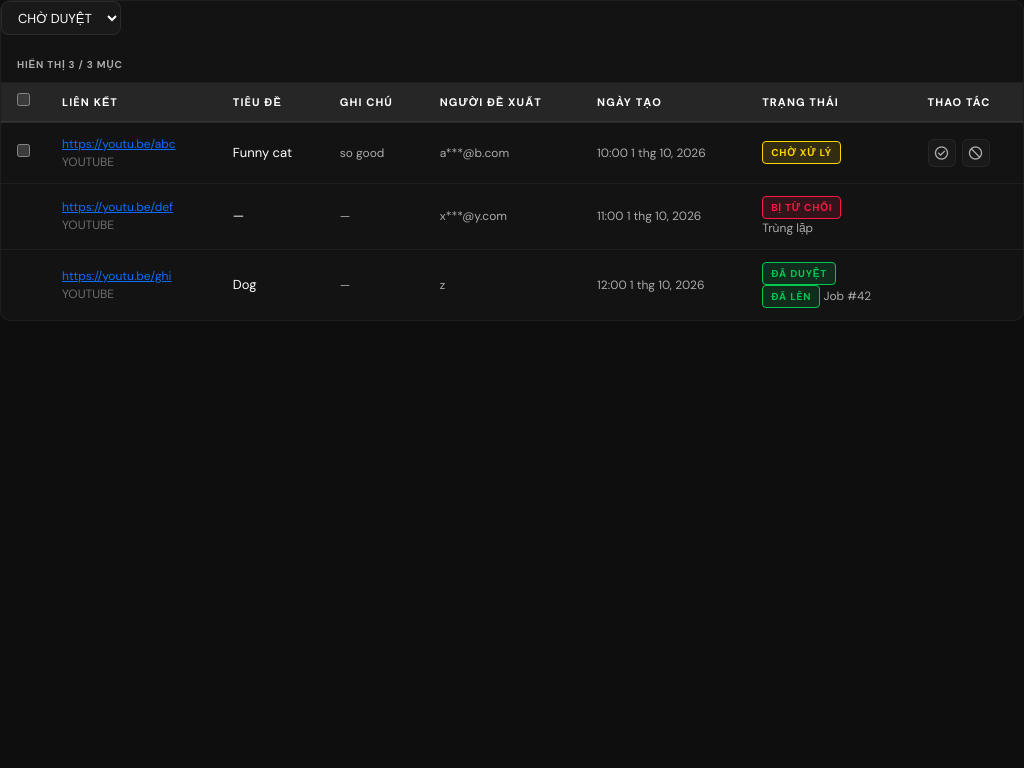
it: AdminSuggestionTable › shows the translated message when import is disabled (503)
Check: the text "Funny cat" is shown, box [217,122,324,183]
What coordinates should you click on to do the following:
click the button named "Duyệt"
I would click on:
 (942, 152)
Its box is [928,138,956,166].
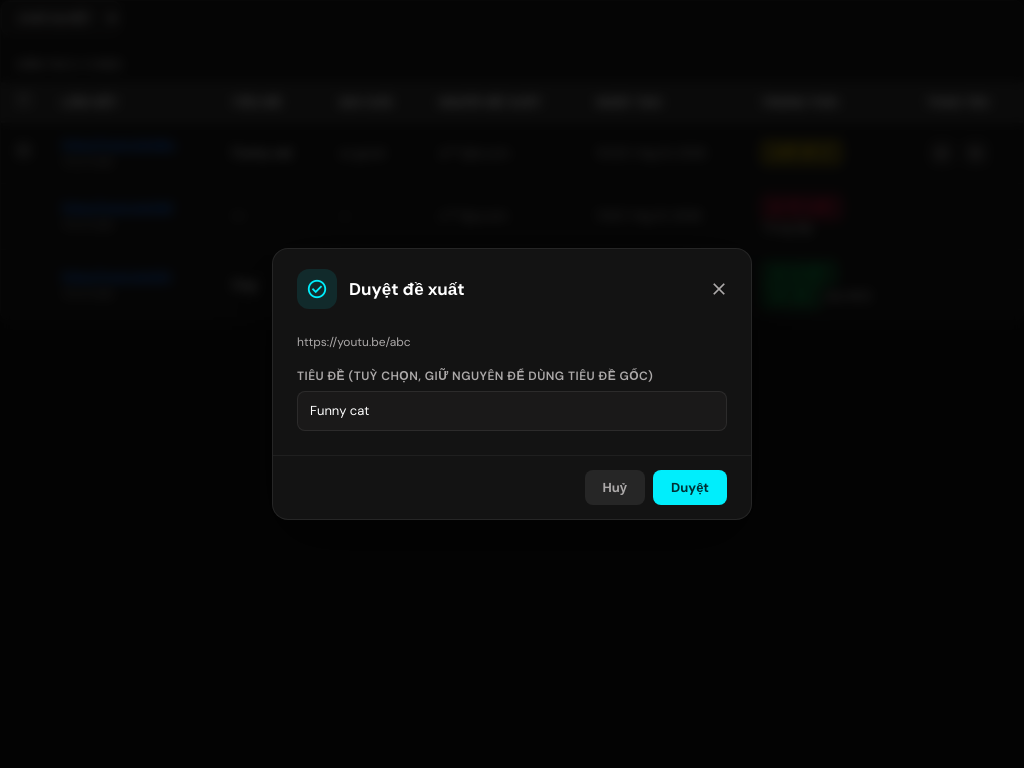
What coordinates should you click on to do the following:
click the button "Duyệt"
I would click on:
 (690, 487)
Its box is [653,470,727,505].
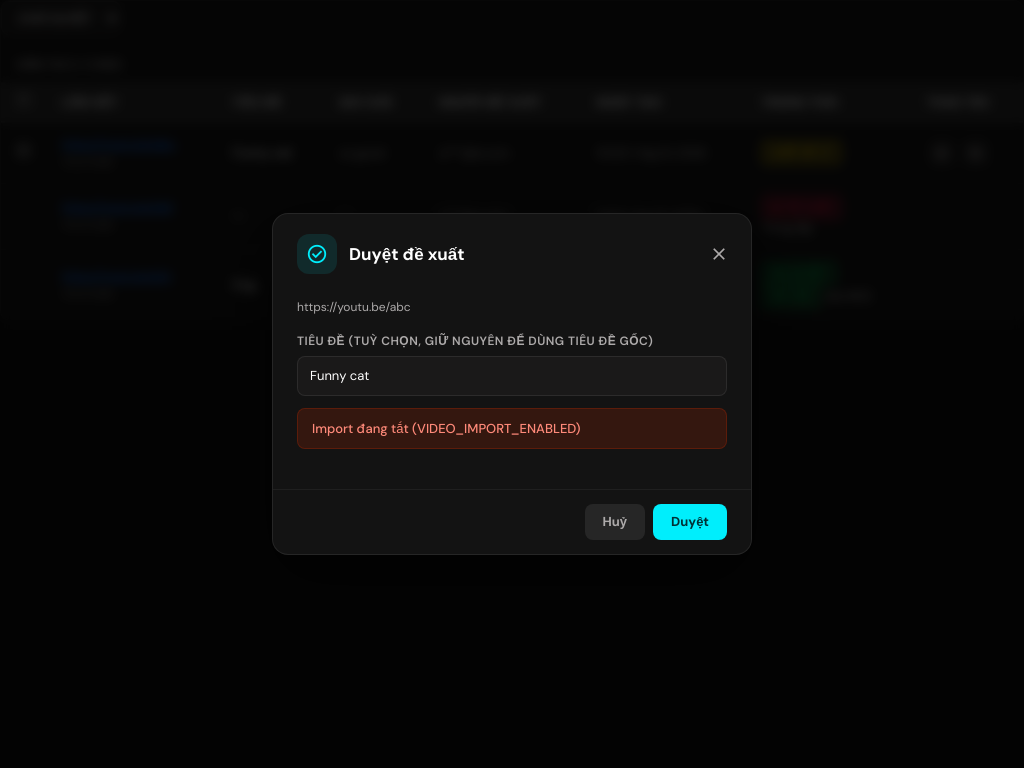
Check: the text "Import đang tắt (VIDEO_IMPORT_ENABLED)" is shown, box [297,408,727,449]
